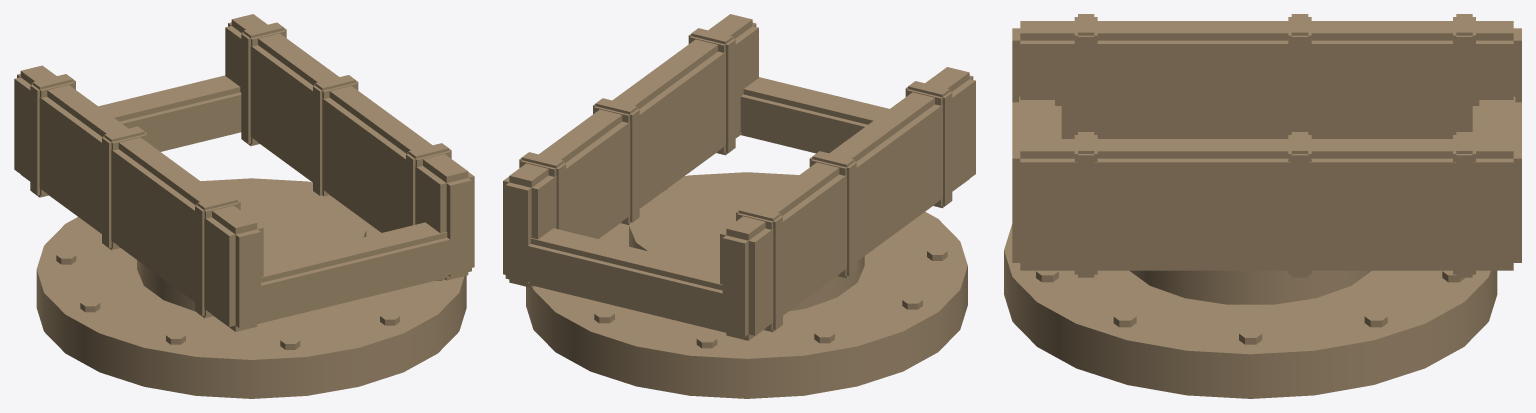
Rendered from ballista_frame.glb.
The picture shows the model from 3 angles, left to right: view 1: azimuth 30°, elevation 25°; view 2: azimuth 150°, elevation 25°; view 3: azimuth 270°, elevation 25°; orthographic projection. The views are drawn at different scales.
Visible parts, largest first — view 1: ballista_frame; view 2: ballista_frame; view 3: ballista_frame.
Part boxes in pixels (x1,y1,x2,y2): ballista_frame: [14, 14, 474, 398]; ballista_frame: [503, 14, 975, 398]; ballista_frame: [1004, 14, 1521, 398].
Bounding box in the file's own units: 0.6 × 0.285 × 0.63.
